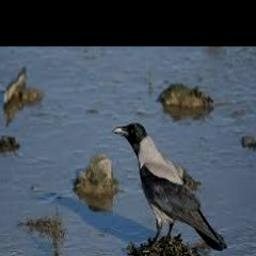Crow: (111, 122, 227, 252)
